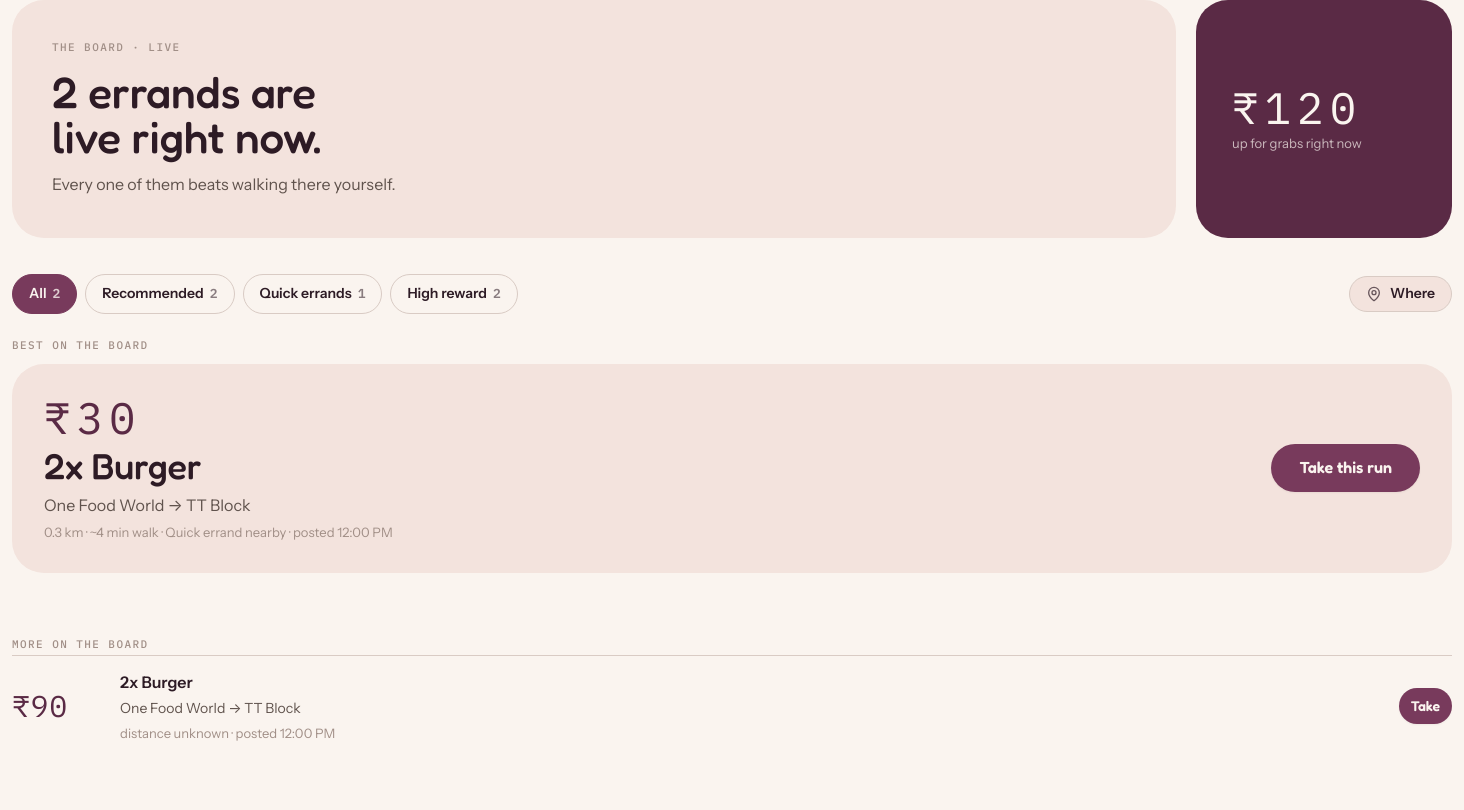
Test: Home — 3B filters › Quick errands never contains an unresolved (no-distance) order
Click the button "Quick errands1": point(313, 294) x1=243 y1=274 x2=382 y2=314
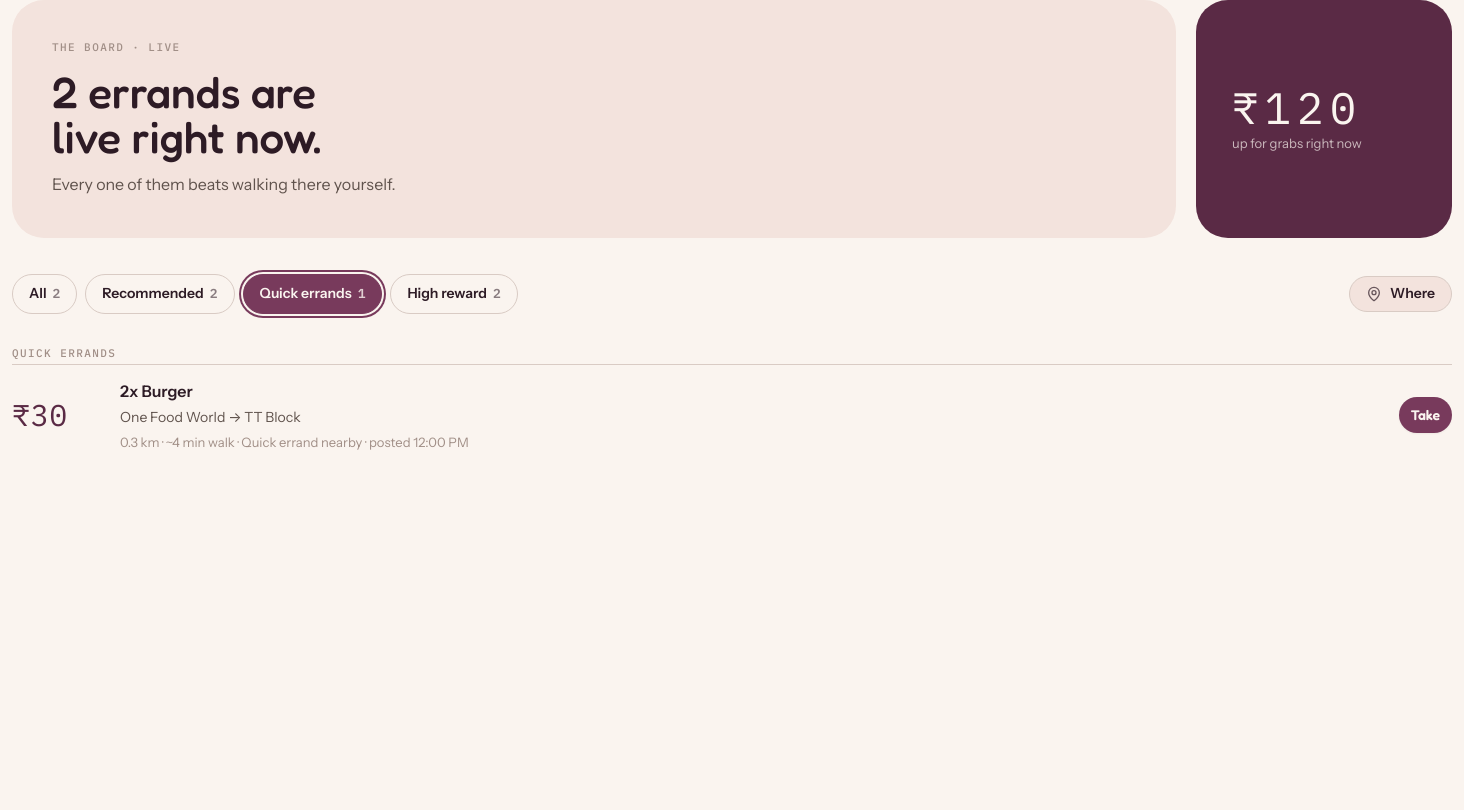
Now the text "₹90" is gone
